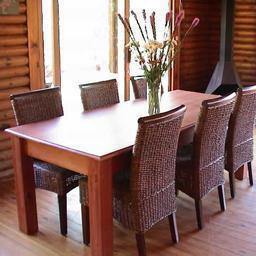Puerta: (127, 3, 172, 100)
